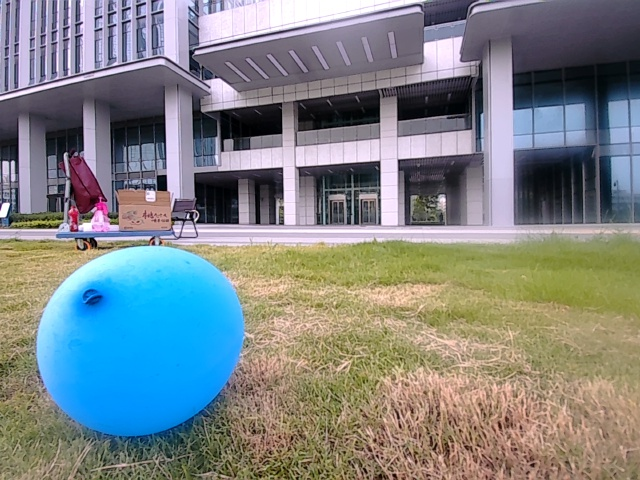ball: (36, 245, 247, 436)
